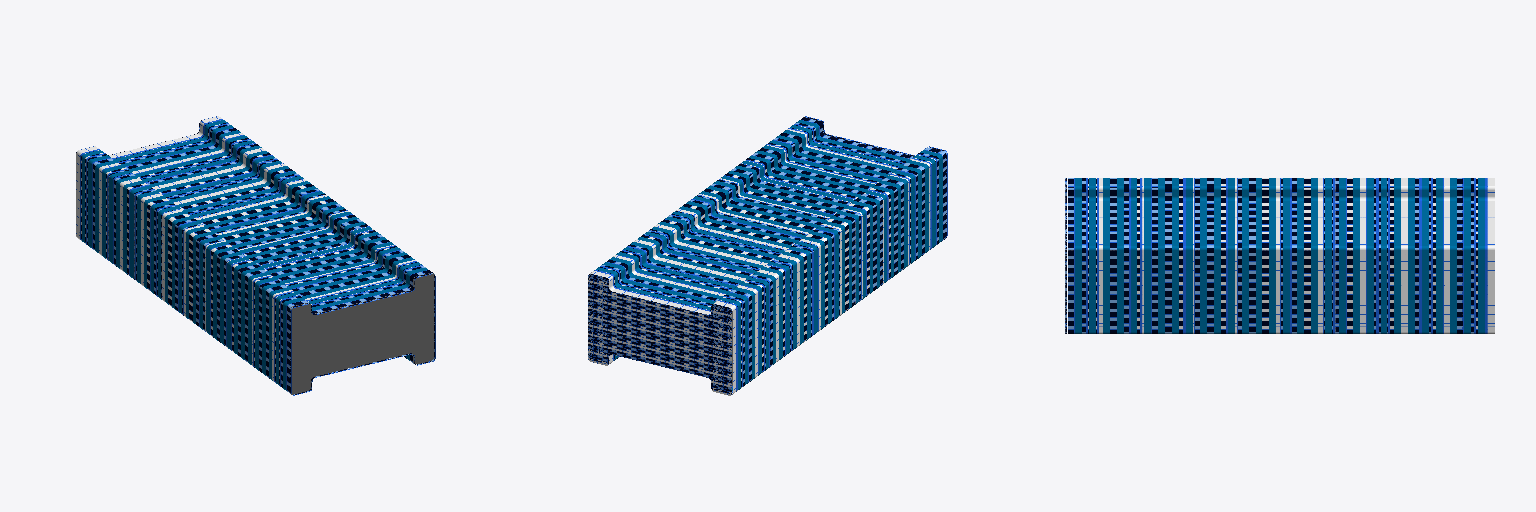
3 renders of one model, left to right at view 1: azimuth 30°, elevation 25°; view 2: azimuth 150°, elevation 25°; view 3: azimuth 270°, elevation 25°, orthographic.
Visible parts, largest first — view 1: glaz_01, wall_02, slab_01, wall_01, wall_03; view 2: glaz_01, wall_02, wall_03, wall_01; view 3: wall_02, glaz_01, wall_01.
Part boxes in pixels (x1,y1,x2,y2): glaz_01: (82,120,427,390); wall_02: (85,123,432,392); slab_01: (290,273,433,394); wall_01: (76,116,222,240); wall_03: (76,116,435,395); glaz_01: (596,120,942,390); wall_02: (600,117,945,387); wall_03: (588,116,947,395); wall_01: (590,270,737,394); wall_02: (1068,178,1477,333); glaz_01: (1075,178,1484,333); wall_01: (1485,178,1494,333).
Bounding box in the file's own units: 1229 × 717 × 3177.
Materials: 4 (1 with a texture image).